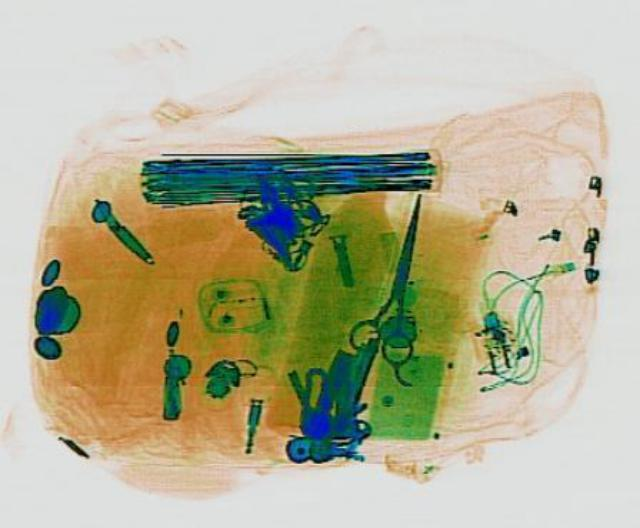Scissors: (342, 187, 448, 361)
